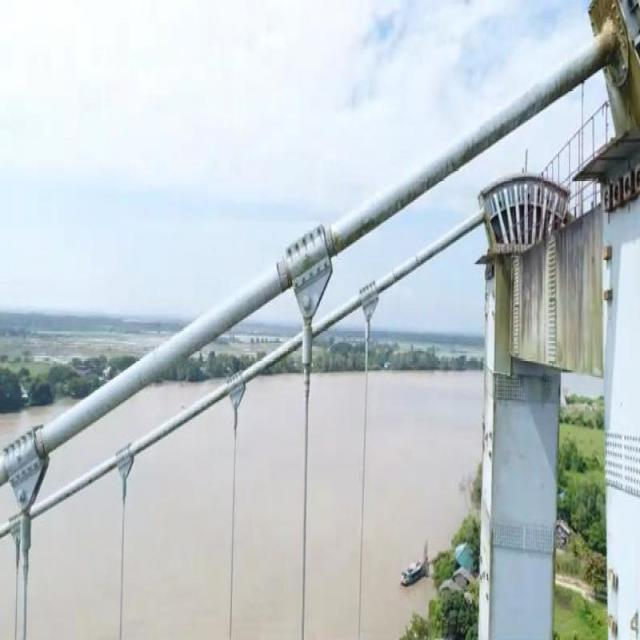Slippage: (277, 260, 291, 291), (325, 226, 338, 259), (35, 429, 47, 458)
